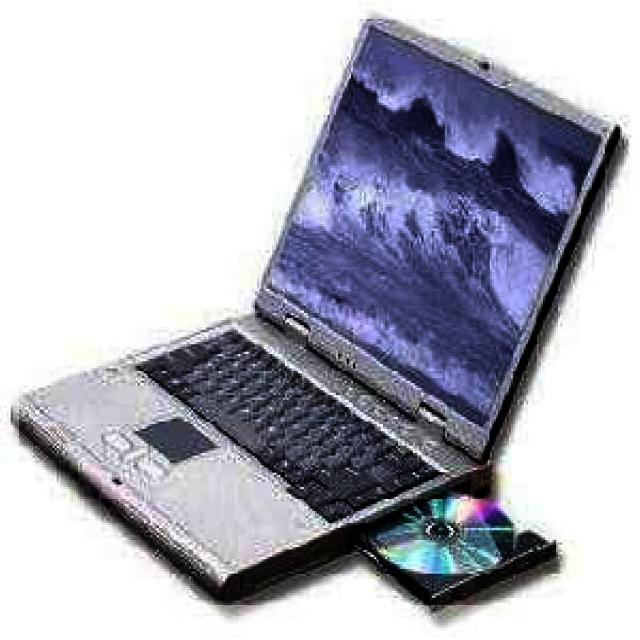-keyboard-: (20, 19, 630, 606)
